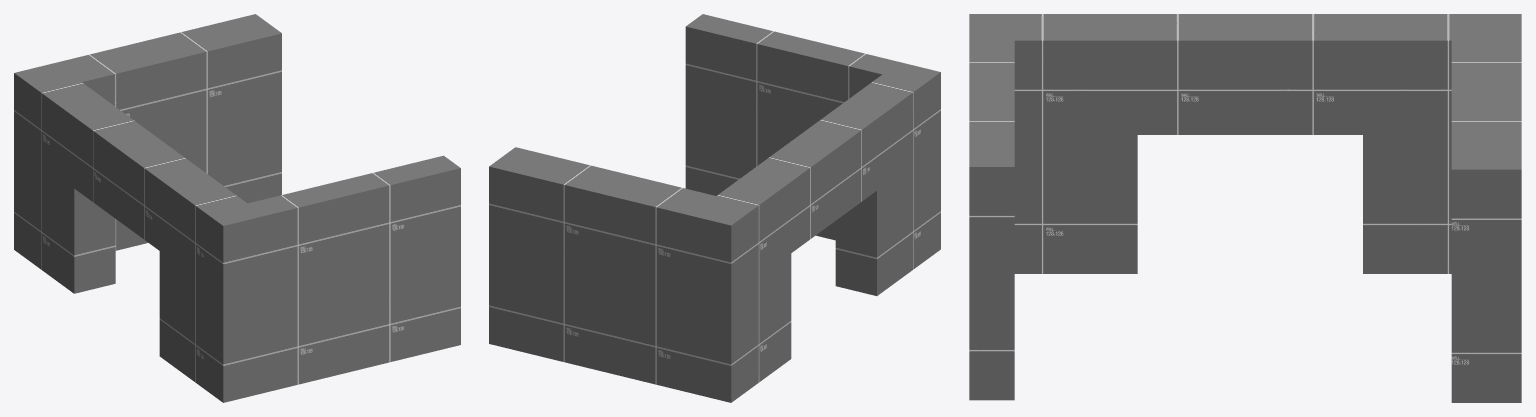
File: BuldingEnteranceBox_size_x10_y7_z15.fbx
3 views of the same model, side by side, from view 1: azimuth 30°, elevation 25°; view 2: azimuth 150°, elevation 25°; view 3: azimuth 270°, elevation 25° (orthographic). The views are drawn at different scales.
Visible parts, largest first — view 1: BuldingEnteranceBox_size_x10_y7_z15; view 2: BuldingEnteranceBox_size_x10_y7_z15; view 3: BuldingEnteranceBox_size_x10_y7_z15.
Part boxes in pixels (<box>): BuldingEnteranceBox_size_x10_y7_z15: <box>14,14,460,402</box>; BuldingEnteranceBox_size_x10_y7_z15: <box>489,14,940,402</box>; BuldingEnteranceBox_size_x10_y7_z15: <box>969,14,1521,402</box>.
Size of the model in its own units: 10 by 7 by 15.
